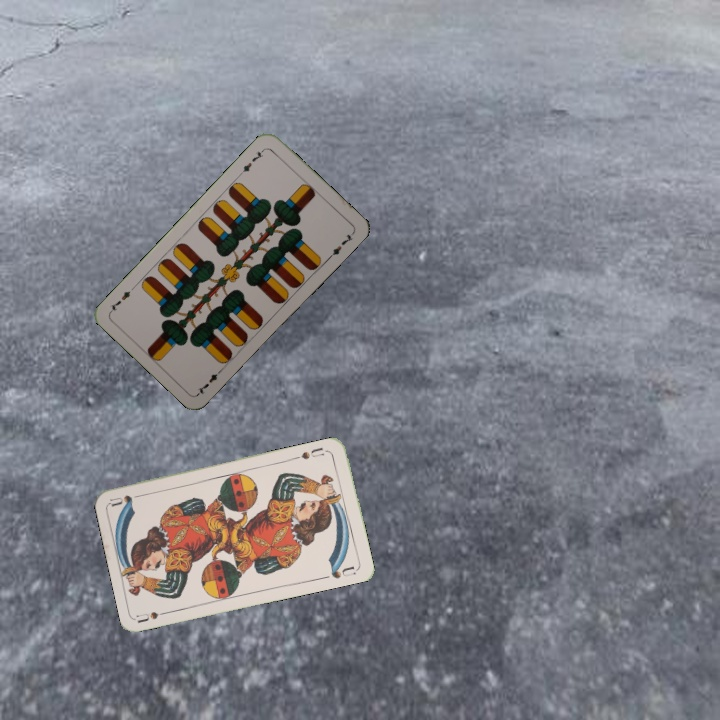E7: (236, 145, 268, 178), (194, 364, 226, 397)
SU: (134, 606, 174, 625), (292, 443, 326, 462)
